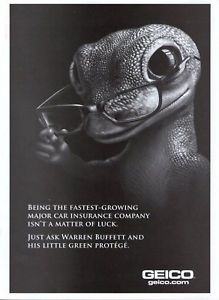Geico: (140, 267, 198, 286)
